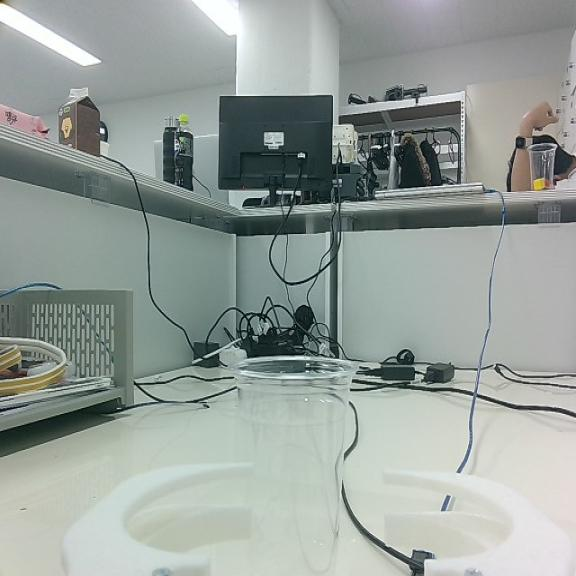Plastik: (232, 357, 354, 572)
